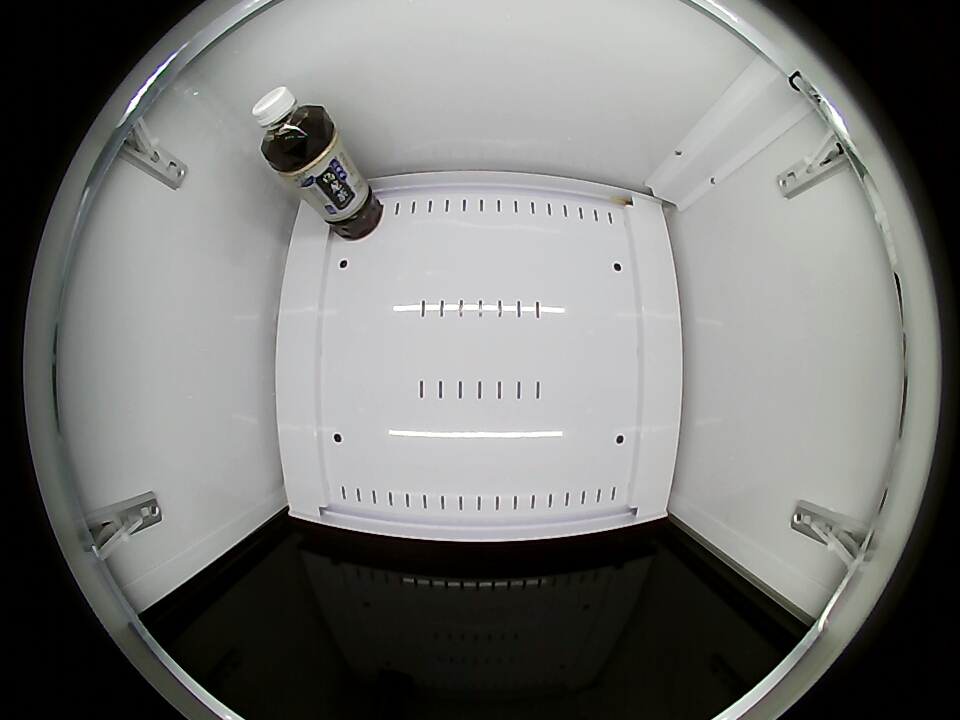wulongcha: (253, 86, 330, 167)
